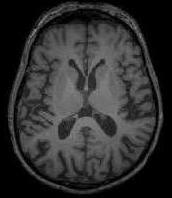Normal_Brain: (1, 1, 172, 198)
